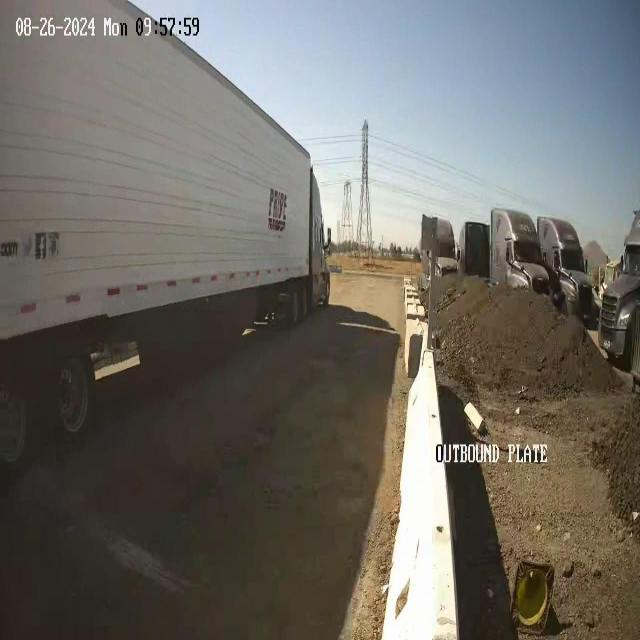TRUCK_CONTAINER: (1, 0, 331, 462)
